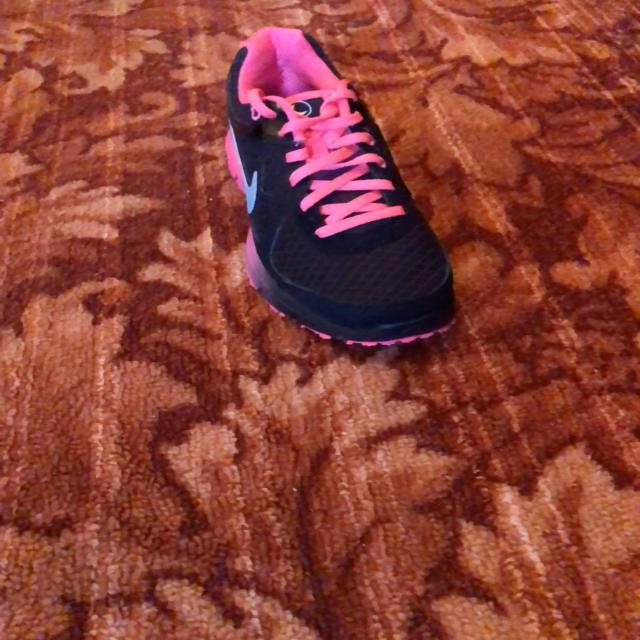shoe: (224, 27, 455, 337)
